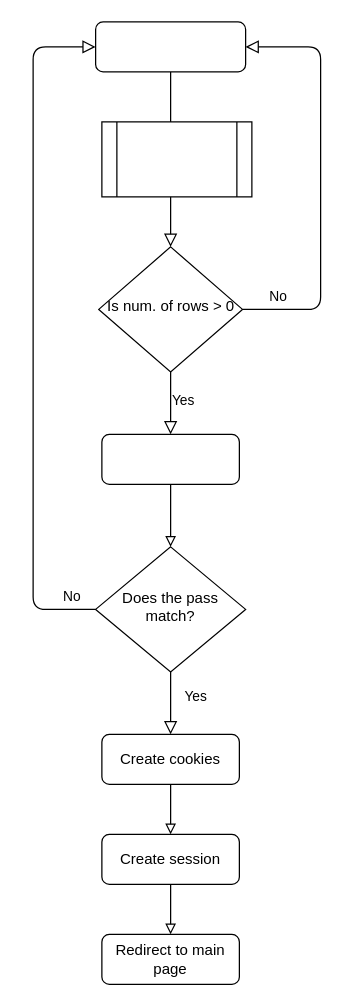
Image size: 355x1006. Some labels were removed from this diagram. The shapes that lost their labels are listed below. From the top down, each one's centre as x and y in pixels, then its label:
At pixel 170 46: "Input nick and pass and submit".
At pixel 176 159: "Select from mysql rows that match the nick".
At pixel 170 458: "Hash the pass and salt it".
